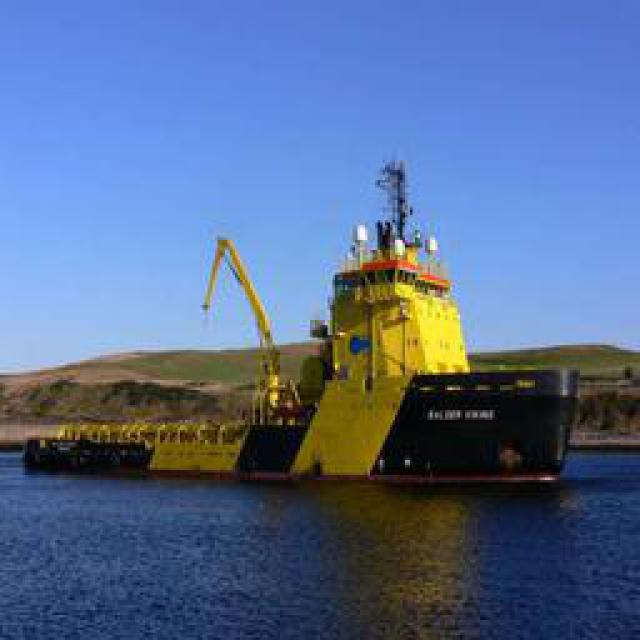Ship: (242, 160, 565, 485)
